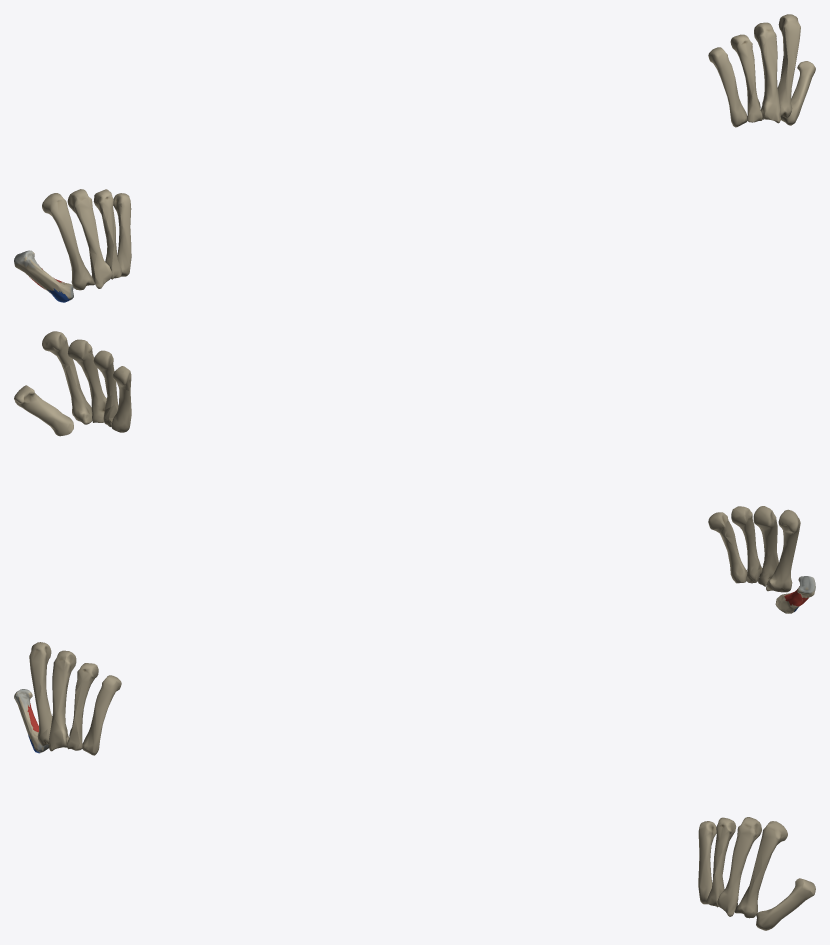
Rendered from ossa-metacarpi.glb.
3 views of the same model, one above another, from view 1: azimuth 30°, elevation 25°; view 2: azimuth 150°, elevation 25°; view 3: azimuth 330°, elevation 25° (orthographic).
Parts seen in each view (by area): view 1: FJ3246, FJ3352, FJ3354, FJ3243, FJ3249, FJ3252, FJ3356, FJ3358, FJ3240, FJ3350; view 2: FJ3243, FJ3352, FJ3246, FJ3240, FJ3354, FJ3356, FJ3358, FJ3252, FJ3249, FJ3350; view 3: FJ3354, FJ3246, FJ3243, FJ3352, FJ3356, FJ3358, FJ3240, FJ3249, FJ3252.
Part boxes in pixels (left/top/right/bottom): FJ3246: left=754, top=22, right=780, bottom=123; FJ3352: left=42, top=193, right=94, bottom=290; FJ3354: left=67, top=189, right=112, bottom=288; FJ3243: left=777, top=14, right=800, bottom=117; FJ3249: left=730, top=34, right=762, bottom=122; FJ3252: left=708, top=47, right=747, bottom=127; FJ3356: left=93, top=189, right=122, bottom=279; FJ3358: left=113, top=193, right=131, bottom=276; FJ3240: left=781, top=61, right=815, bottom=125; FJ3350: left=14, top=250, right=73, bottom=299; FJ3243: left=42, top=331, right=92, bottom=424; FJ3352: left=766, top=509, right=800, bottom=592; FJ3246: left=68, top=339, right=106, bottom=422; FJ3240: left=14, top=385, right=73, bottom=436; FJ3354: left=753, top=506, right=778, bottom=586; FJ3356: left=731, top=506, right=762, bottom=583; FJ3358: left=708, top=512, right=747, bottom=583; FJ3252: left=111, top=366, right=131, bottom=432; FJ3249: left=93, top=350, right=118, bottom=426; FJ3350: left=775, top=576, right=815, bottom=613; FJ3354: left=49, top=650, right=76, bottom=751; FJ3246: left=717, top=817, right=761, bottom=916; FJ3243: left=735, top=821, right=787, bottom=918; FJ3352: left=29, top=642, right=52, bottom=745; FJ3356: left=67, top=663, right=98, bottom=750; FJ3358: left=82, top=675, right=121, bottom=755; FJ3240: left=756, top=878, right=815, bottom=930; FJ3249: left=706, top=817, right=736, bottom=907; FJ3252: left=698, top=821, right=716, bottom=904.
Size of the model in its own units: 619 by 78.54 by 41.53.
